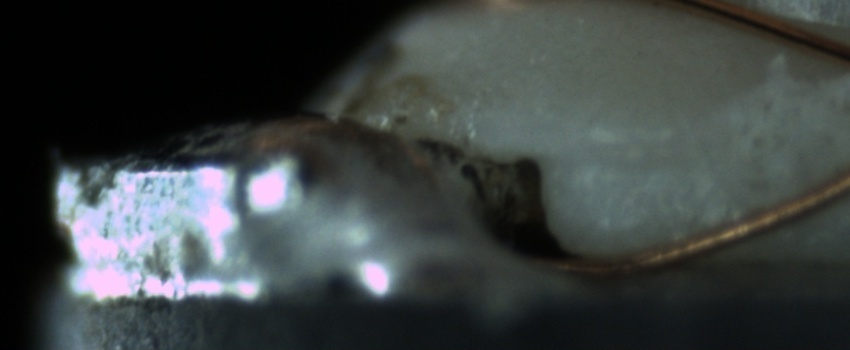DL: (570, 127, 701, 190)
